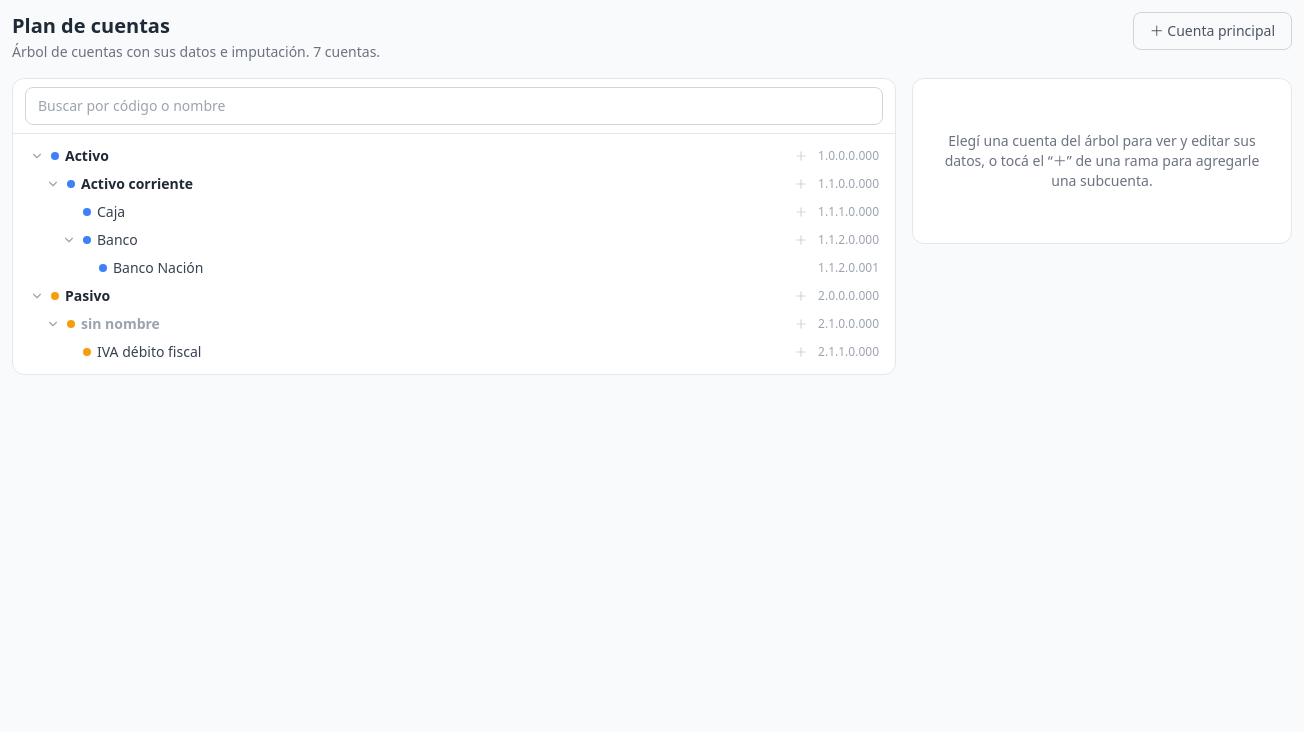
Test case: Plan de cuentas › el ＋ del último nivel numera con el ancho del segmento
This screenshot has width=1304, height=732.
Expected: the text "Banco Nación" is shown, [113,258,203,278]
Click the button named "Agregar subcuenta de 1.1.2.0.000" at coordinates (801, 240), box [790,233,812,247]
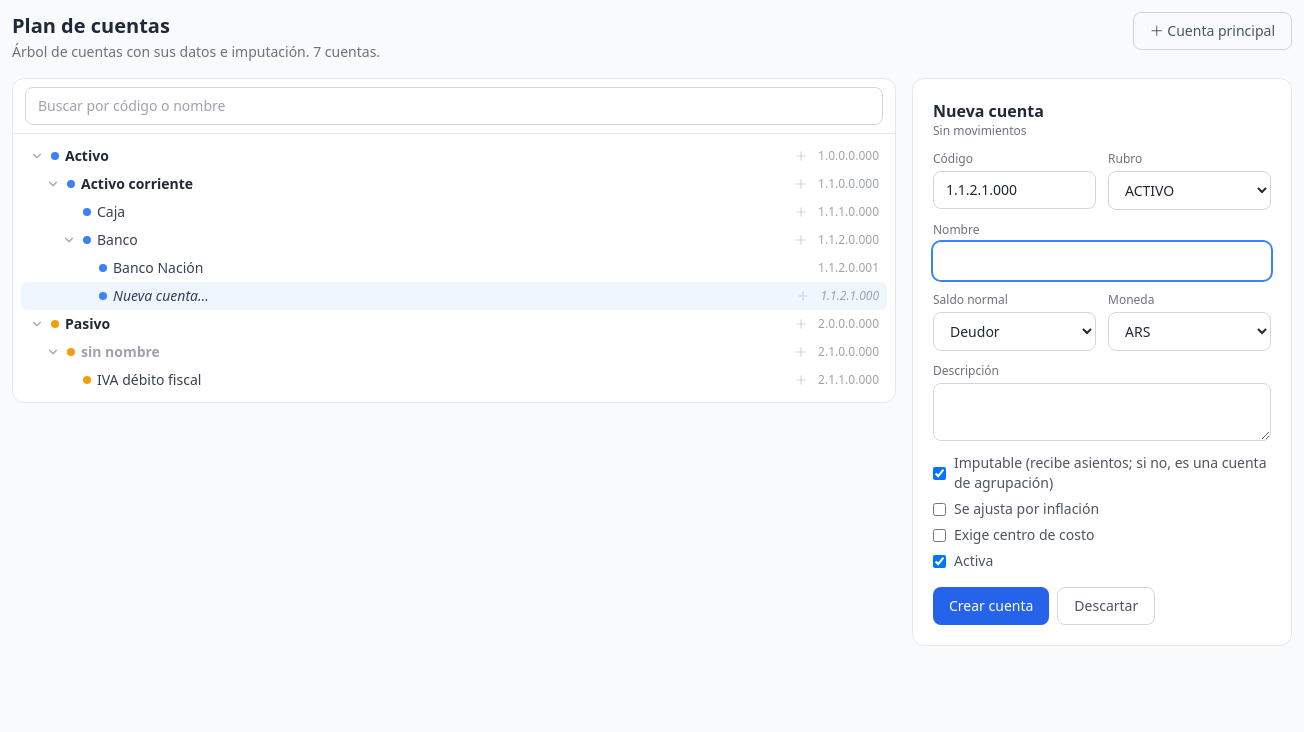
Result: the field labelled "Código" holds "1.1.2.1.000" at [933,171,1096,209]
